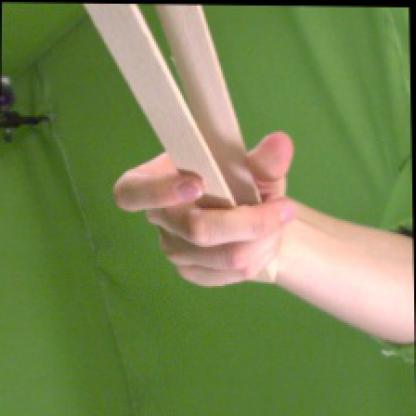Hand: (115, 130, 294, 287)
